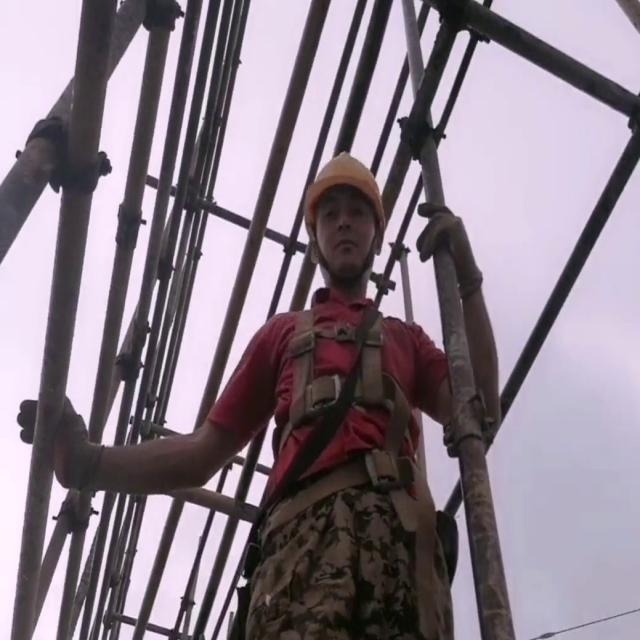Arnes_seguridad: (273, 289, 429, 476)
